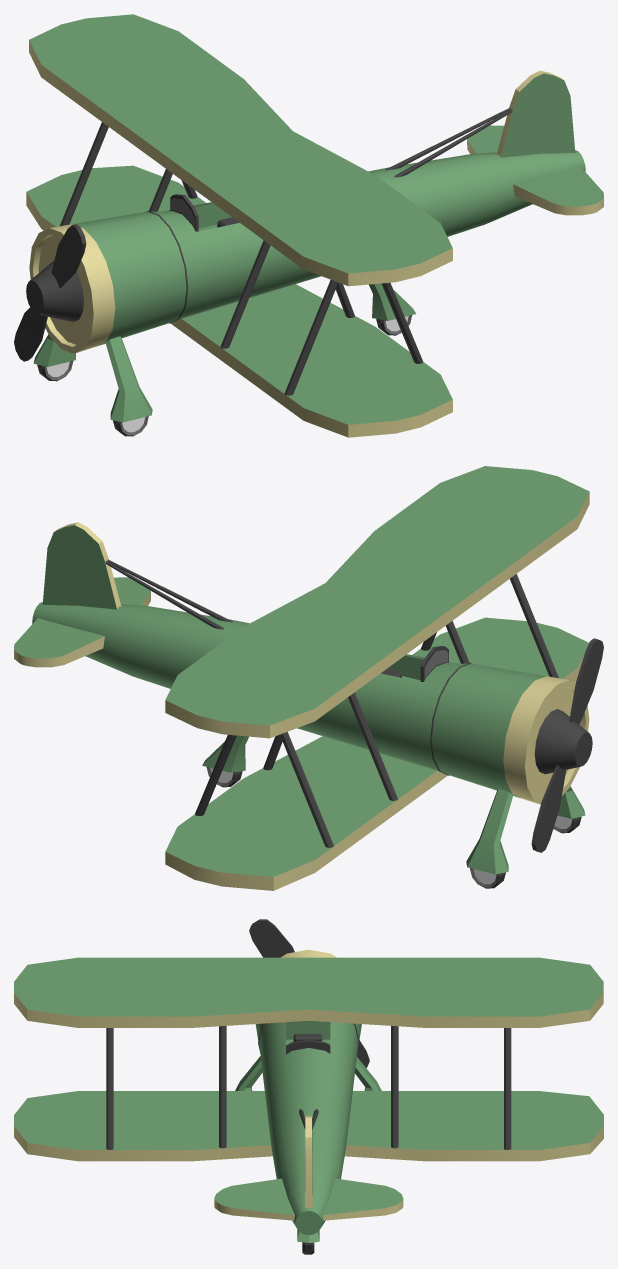
File: light-aircraft.glb
3 views of the same model, one above another, from view 1: azimuth 30°, elevation 25°; view 2: azimuth 150°, elevation 25°; view 3: azimuth 270°, elevation 25° (orthographic). The views are drawn at different scales.
Parts seen in each view (by area): view 1: Air Plane_1, Air Plane_1 Fan; view 2: Air Plane_1, Air Plane_1 Fan; view 3: Air Plane_1, Air Plane_1 Fan.
Boxes of the visible parts, x1=… form: Air Plane_1: x1=26, y1=14, x2=603, y2=437; Air Plane_1 Fan: x1=14, y1=224, x2=86, y2=361; Air Plane_1: x1=14, y1=466, x2=589, y2=890; Air Plane_1 Fan: x1=531, y1=638, x2=603, y2=852; Air Plane_1: x1=14, y1=949, x2=603, y2=1242; Air Plane_1 Fan: x1=249, y1=919, x2=369, y2=1067.
Size of the model in its own units: 8.29 by 3.32 by 8.85.
Materials: 1 (1 with a texture image).
